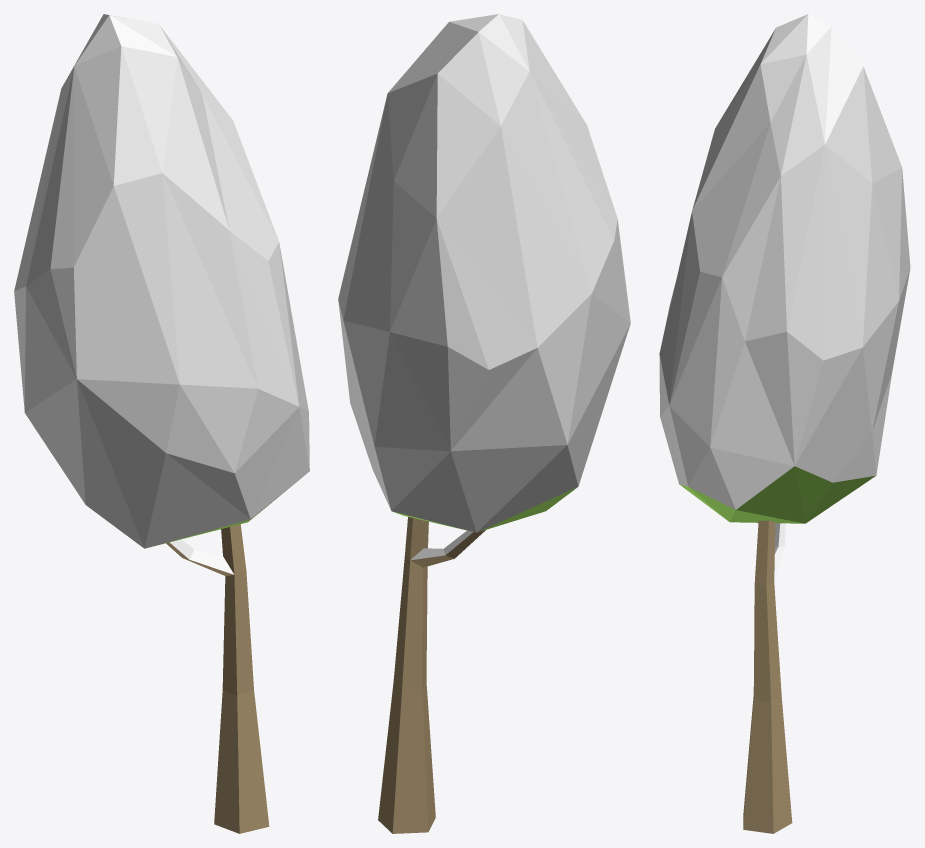
File: Random_Tree_m_Snow_BT_07.fbx
3 renders of one model, left to right at view 1: azimuth 30°, elevation 25°; view 2: azimuth 150°, elevation 25°; view 3: azimuth 270°, elevation 25°, orthographic. The views are drawn at different scales.
Visible parts, largest first — view 1: Random_Tree_m_Snow_BT_07; view 2: Random_Tree_m_Snow_BT_07; view 3: Random_Tree_m_Snow_BT_07.
Boxes of the visible parts, left/top/right/bottom form: Random_Tree_m_Snow_BT_07: left=14, top=14, right=309, bottom=833; Random_Tree_m_Snow_BT_07: left=338, top=14, right=630, bottom=833; Random_Tree_m_Snow_BT_07: left=659, top=14, right=910, bottom=833.
Bounding box in the file's own units: 282 × 933 × 280.
